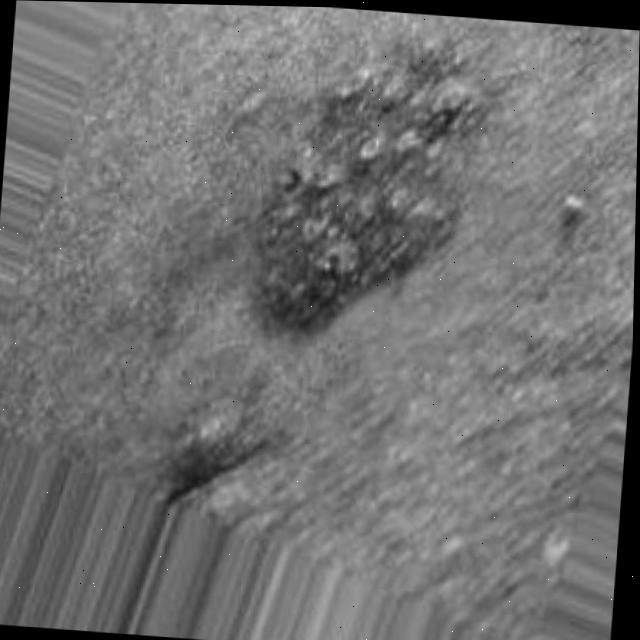Shingles: (257, 49, 480, 327)
